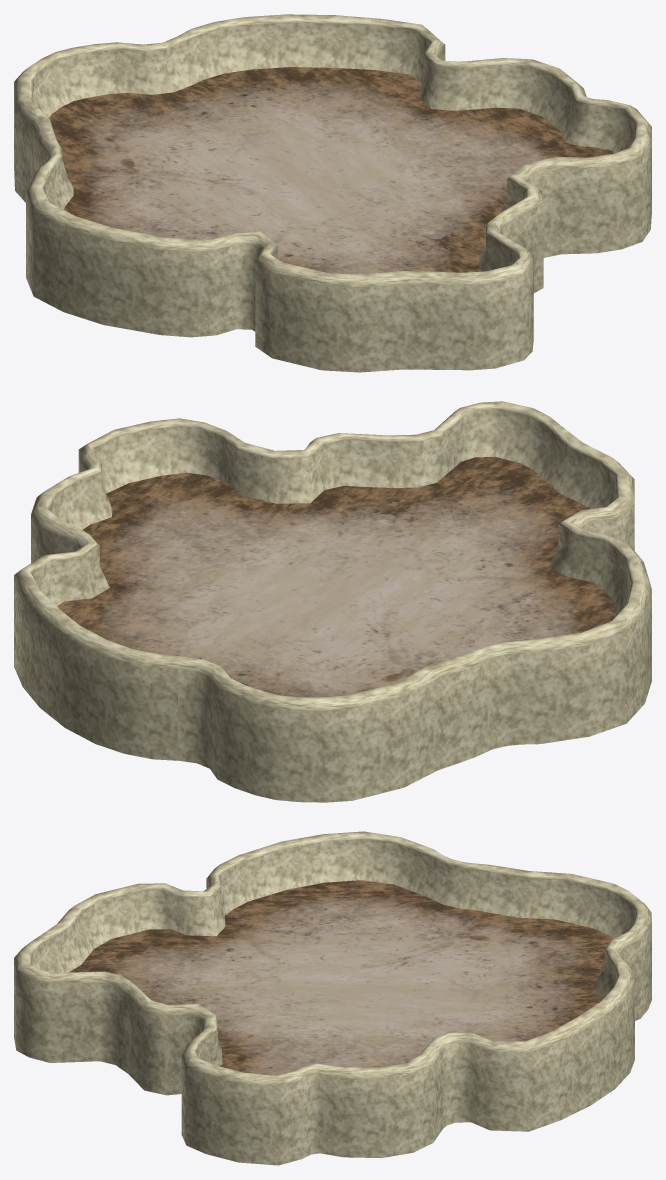
The model's file is Plates_Small_2.fbx.
The picture shows the model from 3 angles, top to bottom: view 1: azimuth 30°, elevation 25°; view 2: azimuth 150°, elevation 25°; view 3: azimuth 270°, elevation 25°; orthographic projection. The views are drawn at different scales.
Visible parts, largest first — view 1: Plates_Small_2; view 2: Plates_Small_2; view 3: Plates_Small_2.
Boxes of the visible parts, box(x1,y1,x2,y2) form: Plates_Small_2: box(14, 14, 651, 372); Plates_Small_2: box(14, 401, 651, 802); Plates_Small_2: box(14, 831, 651, 1165).
Bounding box in the file's own units: 15.92 × 2.51 × 17.04.
2 materials, 2 textured.
